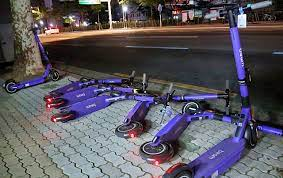fallin_kick: (117, 77, 232, 138)
kick_board: (2, 27, 59, 92)
kick_handler: (27, 27, 40, 33)
kick_wheel: (2, 81, 18, 92), (49, 70, 59, 80)
